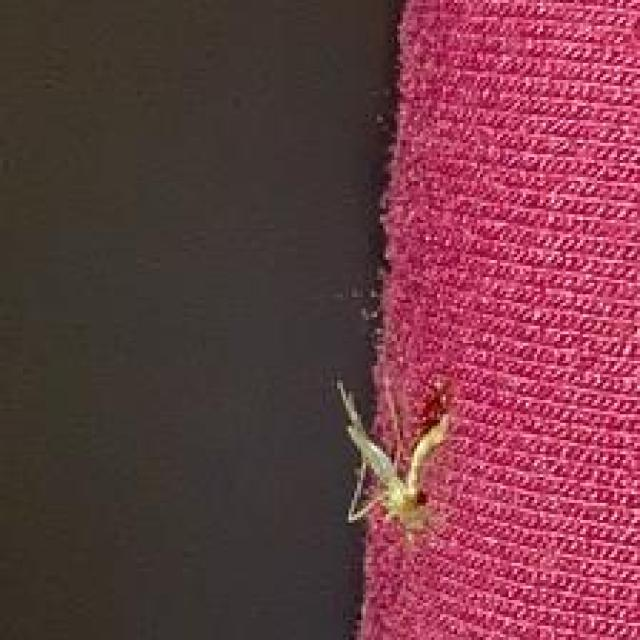Culex: (333, 374, 456, 549)
